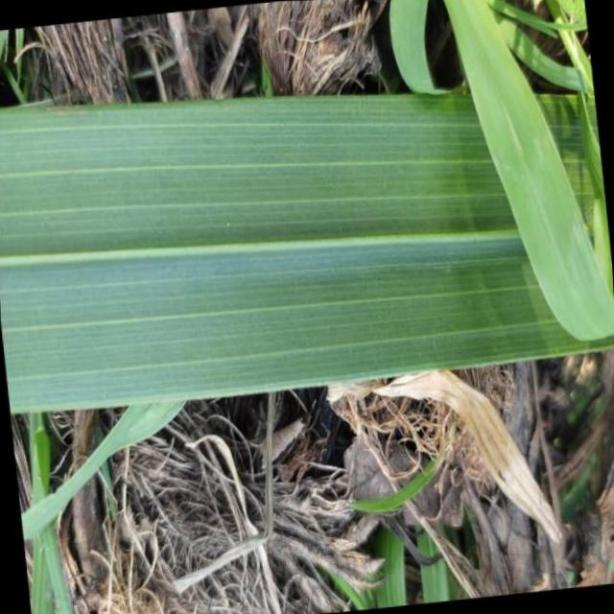Healthy: (0, 91, 614, 419)
